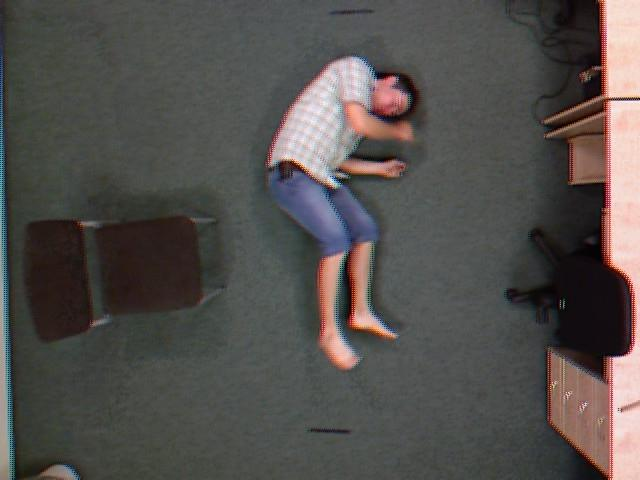fall: (258, 52, 433, 373)
